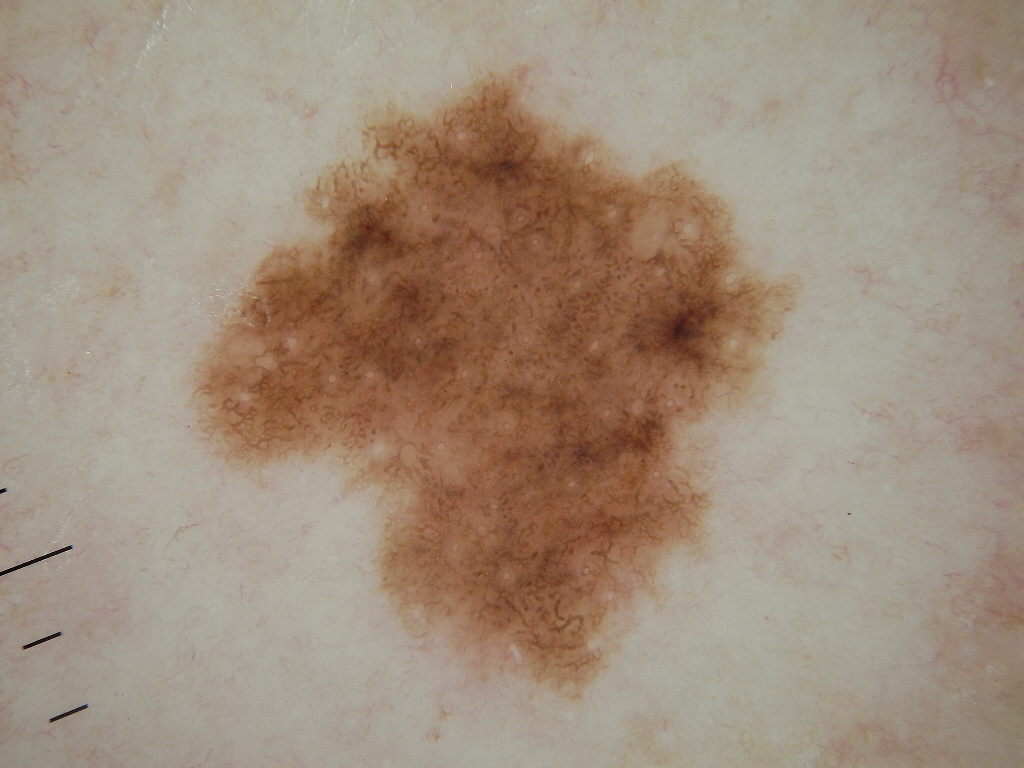Detected Lesion: (188, 60, 819, 710)
